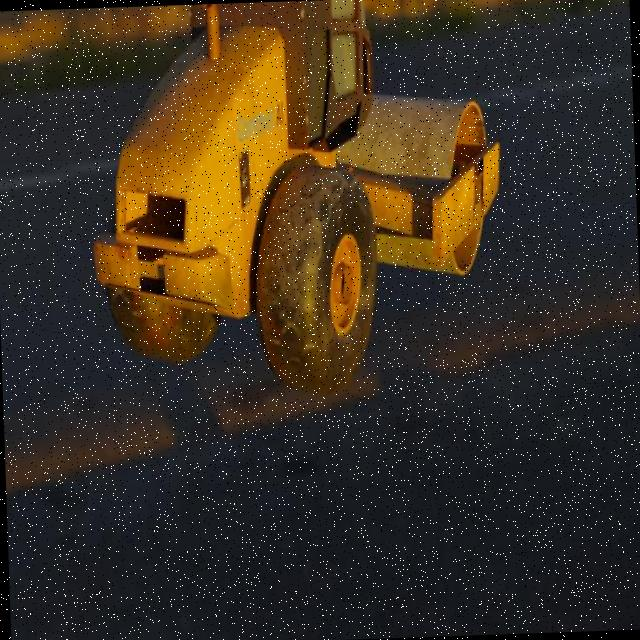Roller: (83, 0, 507, 406)
